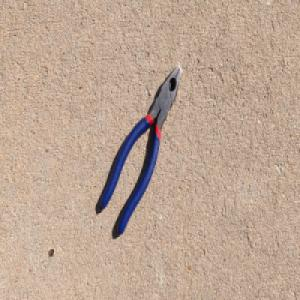Pliers: (99, 64, 182, 239)
